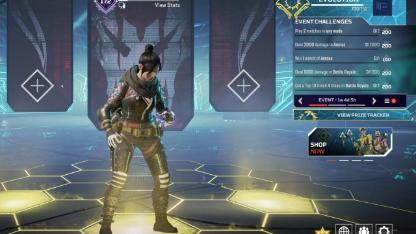Target: (100, 42, 172, 232)
